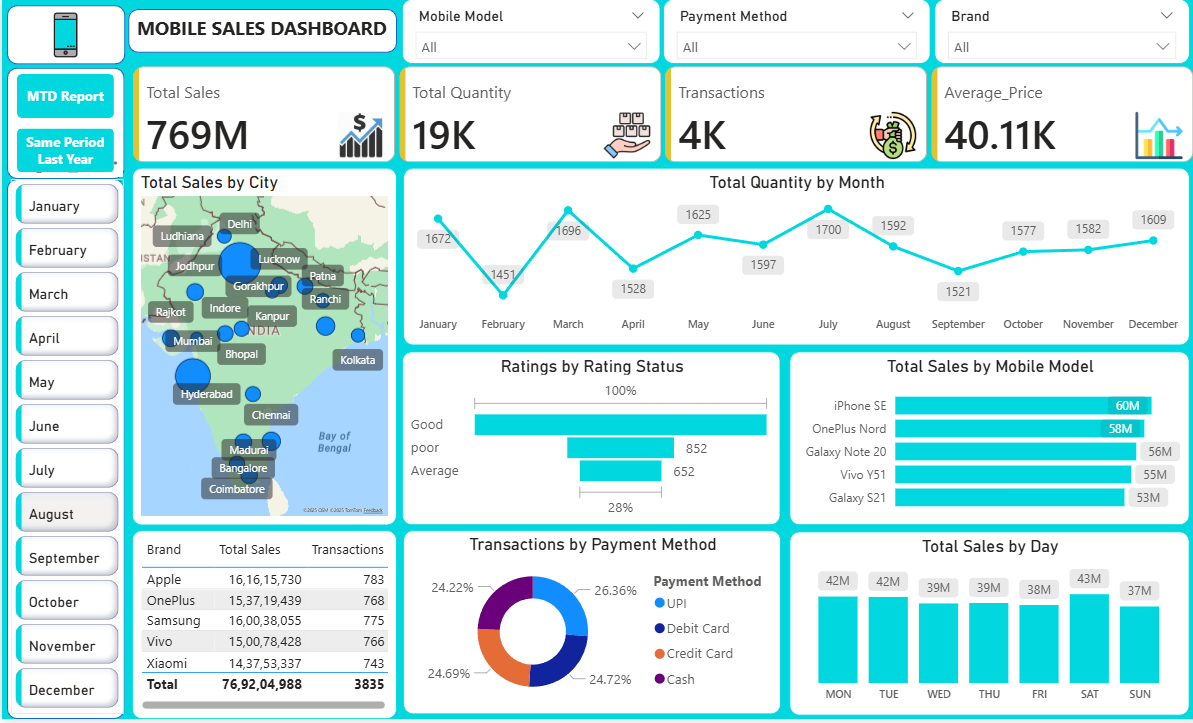

The dashboard page shown, as its layout file describes it:
{"tool":"powerbi","page":{"name":"Dashboard","canvas":[1200,720],"ordinal":0},"visuals":[{"type":"shape","box":[4.8,6,118.2,59.1],"z":0},{"type":"shape","box":[5,68.8,117.5,111.2],"z":1000},{"type":"shape","box":[5,180,117.5,540],"z":2000},{"type":"advancedSlicerVisual","fields":{"Values":["custom_calander.Date.Variation.Date Hierarchy.Month"]},"box":[8.8,180,113.8,535],"z":3000},{"type":"image","box":[30.2,8.4,67.6,54.3],"z":4000},{"type":"cardVisual","fields":{"Data":["_measures.Total Sales","_measures.Total Quantity","_measures.Transactions","_measures.Average_Price"]},"box":[126.2,62.5,1073.8,106.2],"z":5000},{"type":"slicer","fields":{"Values":["Sales Data.Mobile Model"]},"box":[400,0,258.8,65],"z":6000},{"type":"slicer","fields":{"Values":["Sales Data.Payment Method"]},"box":[661.2,0,267.5,65],"z":7000},{"type":"slicer","fields":{"Values":["Sales Data.Brand"]},"box":[932.5,0,255,65],"z":8000},{"type":"shape","box":[126.2,10,268.8,43.8],"z":9000},{"type":"textbox","box":[130,11.2,265,43.8],"z":10000},{"type":"map","fields":{"Category":["Sales Data.City"],"Size":["_measures.Total Sales"]},"box":[130,168.8,265,357.5],"z":11000},{"type":"lineChart","fields":{"Y":["_measures.Total Quantity"],"Category":["custom_calander.Date.Variation.Date Hierarchy.Month"]},"box":[401.2,168.8,786.2,177.5],"z":12000},{"type":"funnel","title":" Ratings by Rating Status","fields":{"Category":["Sales Data.Rating Status"],"Y":["CountNonNull(Sales Data.Customer Ratings)"]},"box":[400,352.5,378.8,173.8],"z":13000},{"type":"donutChart","fields":{"Y":["_measures.Transactions"],"Category":["Sales Data.Payment Method"]},"box":[401.2,531.2,377.5,183.8],"z":14000},{"type":"clusteredBarChart","fields":{"Y":["_measures.Total Sales"],"Category":["Sales Data.Mobile Model"]},"box":[787.5,352.5,400,173.8],"z":15000},{"type":"columnChart","title":"Total Sales by Day","fields":{"Category":["custom_calander.Days"],"Y":["_measures.Total Sales"]},"box":[787.5,532.5,400,183.8],"z":16000},{"type":"tableEx","fields":{"Values":["Sales Data.Brand","_measures.Total Sales","_measures.Transactions"]},"box":[130,531.2,265,188.8],"z":17000},{"type":"pageNavigator","box":[15,75,97.5,98.8],"z":18000}]}

Visuals, with their boxes in screenshot pixels (x1, y1, x2, y2), scaled from the page's 1200x720 canvas onto the 1193x723 screenshot:
shape: BBox(5, 6, 122, 65)
shape: BBox(5, 69, 122, 181)
shape: BBox(5, 181, 122, 722)
advancedSlicerVisual - custom_calander.Date.Variation.Date Hierarchy.Month: BBox(9, 181, 122, 718)
image: BBox(30, 8, 97, 63)
cardVisual - _measures.Total Sales x _measures.Total Quantity: BBox(125, 63, 1192, 169)
slicer - Sales Data.Mobile Model: BBox(398, 0, 655, 65)
slicer - Sales Data.Payment Method: BBox(657, 0, 923, 65)
slicer - Sales Data.Brand: BBox(927, 0, 1181, 65)
shape: BBox(125, 10, 393, 54)
textbox: BBox(129, 11, 393, 55)
map - Sales Data.City x _measures.Total Sales: BBox(129, 170, 393, 528)
lineChart - _measures.Total Quantity x custom_calander.Date.Variation.Date Hierarchy.Month: BBox(399, 170, 1180, 348)
" Ratings by Rating Status" funnel: BBox(398, 354, 774, 528)
donutChart - _measures.Transactions x Sales Data.Payment Method: BBox(399, 533, 774, 718)
clusteredBarChart - _measures.Total Sales x Sales Data.Mobile Model: BBox(783, 354, 1181, 528)
"Total Sales by Day" columnChart: BBox(783, 535, 1181, 719)
tableEx - Sales Data.Brand x _measures.Total Sales: BBox(129, 533, 393, 722)
pageNavigator: BBox(15, 75, 112, 175)
